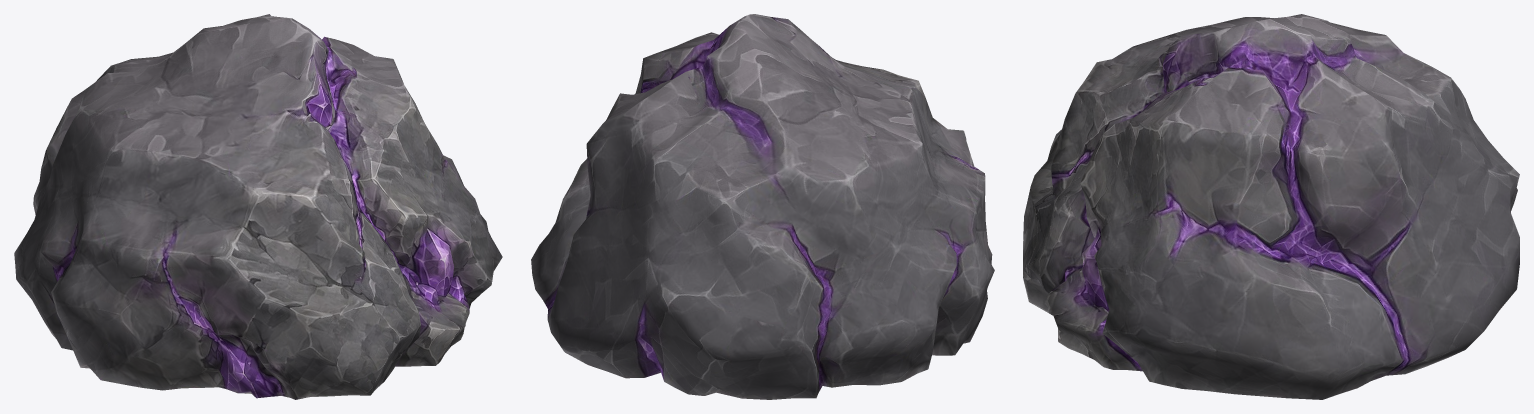
File: seam_boulder_5.glb
3 views of the same model, side by side, from view 1: azimuth 30°, elevation 25°; view 2: azimuth 150°, elevation 25°; view 3: azimuth 270°, elevation 25° (orthographic). The views are drawn at different scales.
Parts seen in each view (by area): view 1: kit-veined-boulder-5; view 2: kit-veined-boulder-5; view 3: kit-veined-boulder-5.
Part boxes in pixels (box(x1,y1,x2,y2)): kit-veined-boulder-5: box(14, 14, 502, 399); kit-veined-boulder-5: box(531, 14, 994, 399); kit-veined-boulder-5: box(1023, 14, 1519, 399).
Size of the model in its own units: 1.72 by 1.15 by 1.72.
1 material, 1 textured.
